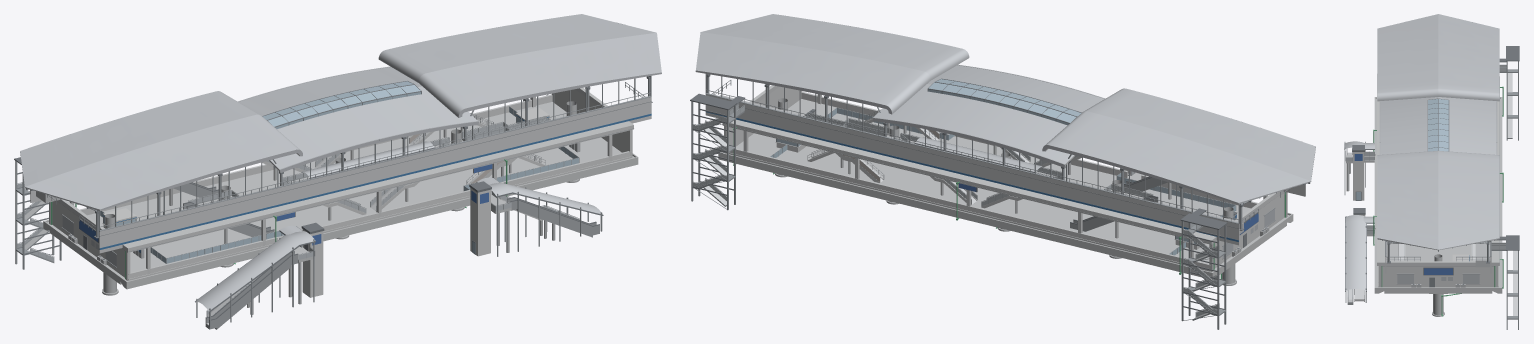
3 renders of one model, left to right at view 1: azimuth 30°, elevation 25°; view 2: azimuth 150°, elevation 25°; view 3: azimuth 270°, elevation 25°, orthographic. The views are drawn at different scales.
Visible parts, largest first — view 1: BL36, BL36_conc, BL36_access; view 2: BL36, BL36_conc, BL36_access; view 3: BL36, BL36_conc, BL36_access.
Part boxes in pixels (x1=…): BL36: x1=20, y1=14, x2=661, y2=253; BL36_conc: x1=43, y1=88, x2=638, y2=295; BL36_access: x1=14, y1=94, x2=603, y2=329; BL36: x1=695, y1=14, x2=1315, y2=245; BL36_conc: x1=718, y1=85, x2=1293, y2=285; BL36_access: x1=690, y1=93, x2=1285, y2=329; BL36: x1=1377, y1=14, x2=1499, y2=273; BL36_conc: x1=1374, y1=74, x2=1502, y2=316; BL36_access: x1=1344, y1=46, x2=1519, y2=329.
Size of the model in its own units: 126 by 28 by 39.62.
